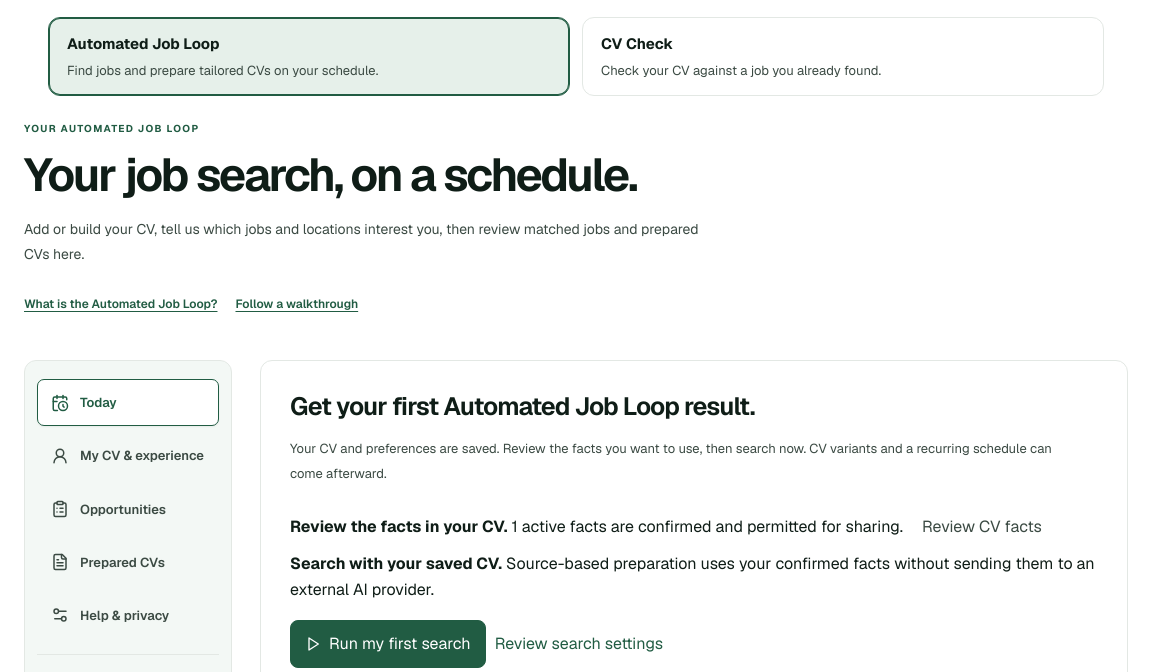
Test case: before Save: the three requirements are named where they are entered › keeps the browser's own url check on the link field (no novalidate, type=url, no required attribute added)
This screenshot has width=1152, height=672.
Step 1. Click the button "Opportunities" → {"x": 128, "y": 509}, box [37,486,219,533]
(page scrolled)
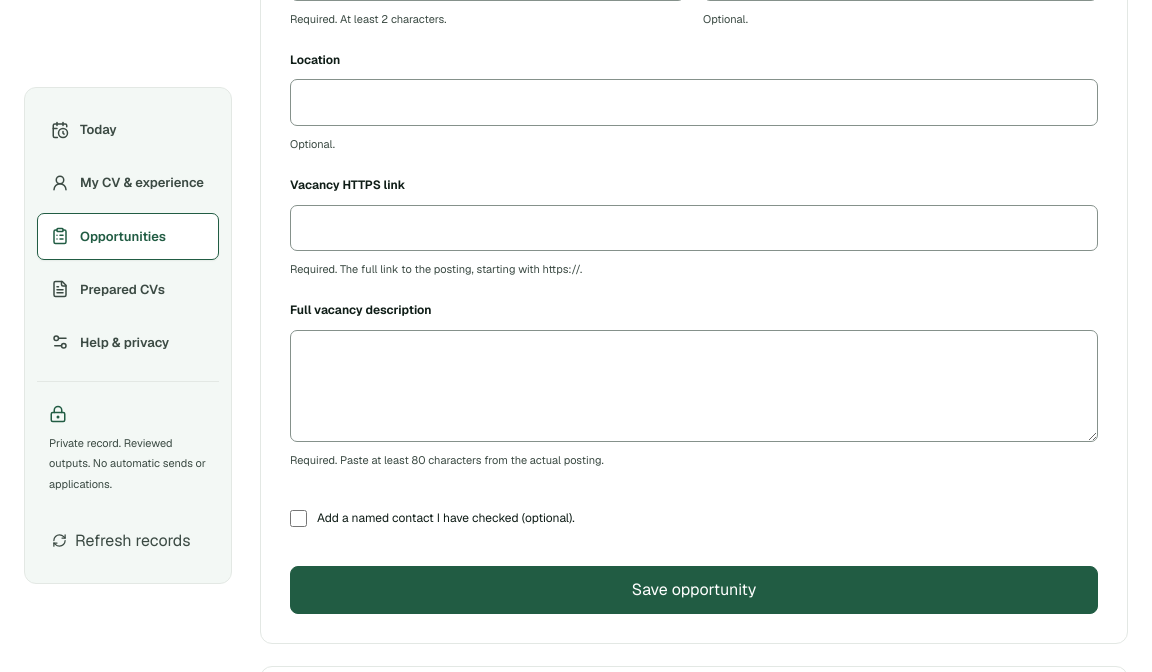
Expected: the button "Save opportunity" is shown, [290,566,1098,614]
